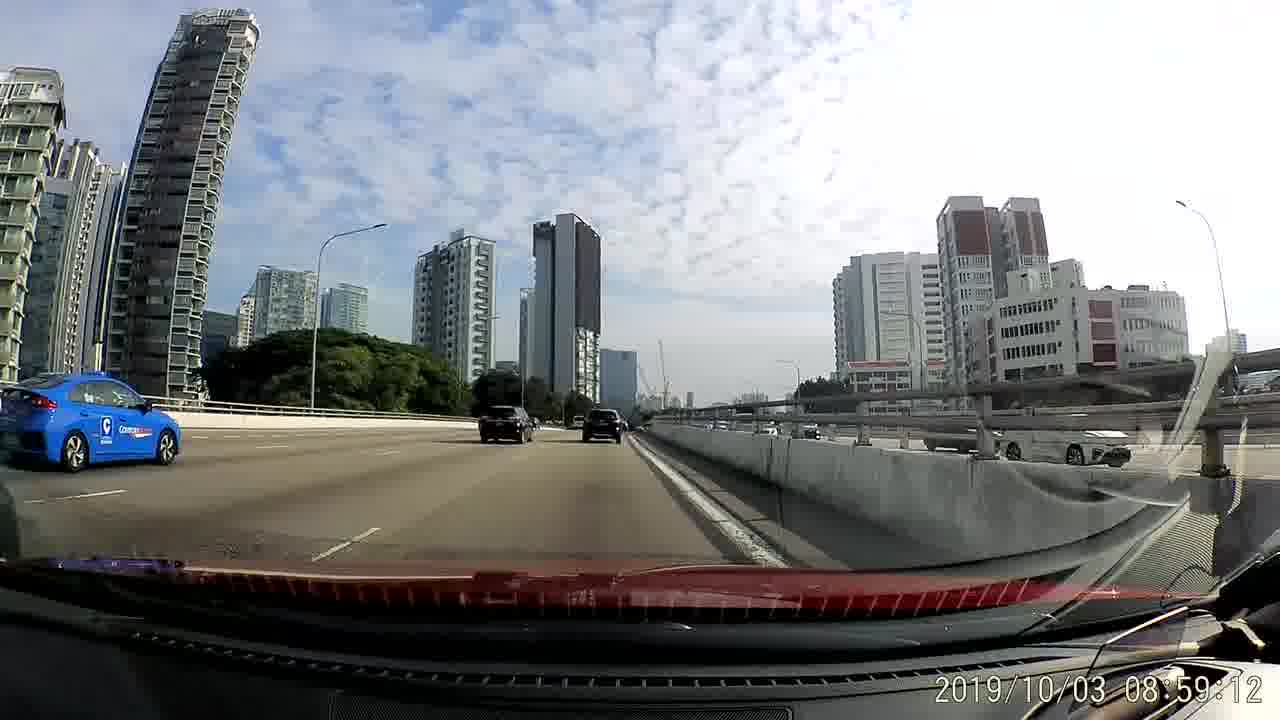car: (1, 369, 184, 470), (998, 407, 1133, 466), (478, 401, 537, 443), (578, 406, 628, 444)
